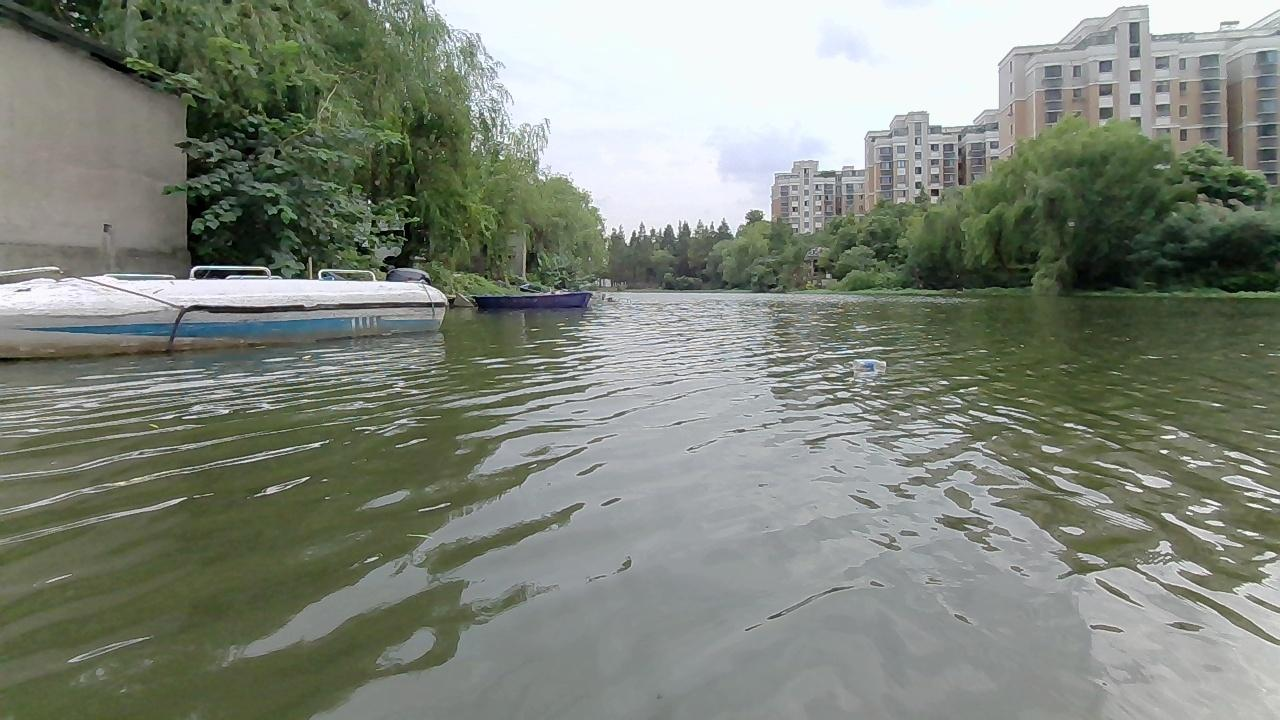bottle: (845, 355, 887, 373)
